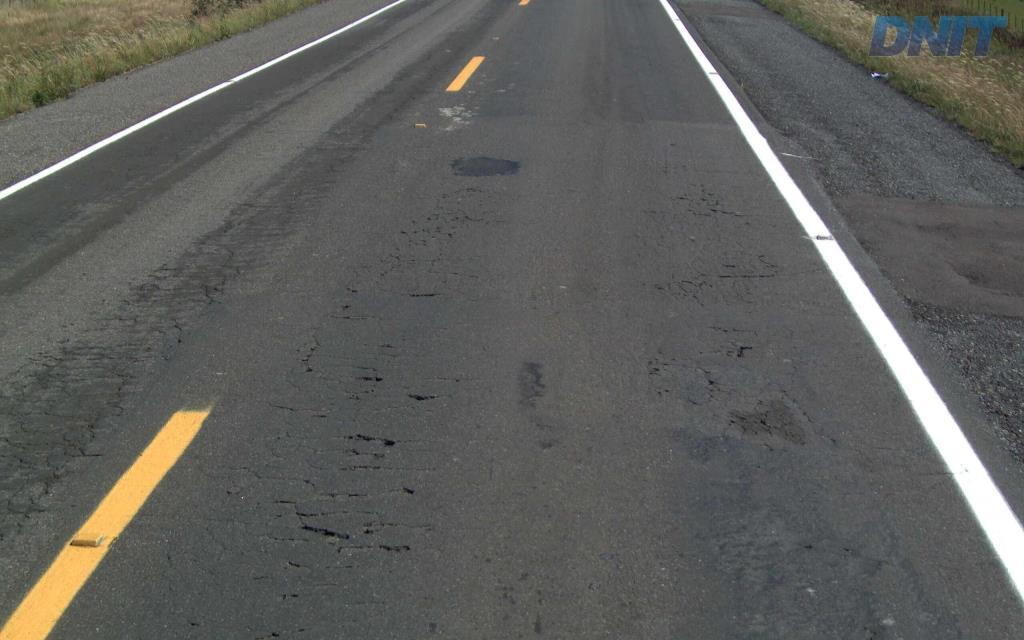crack: (272, 499, 350, 540)
